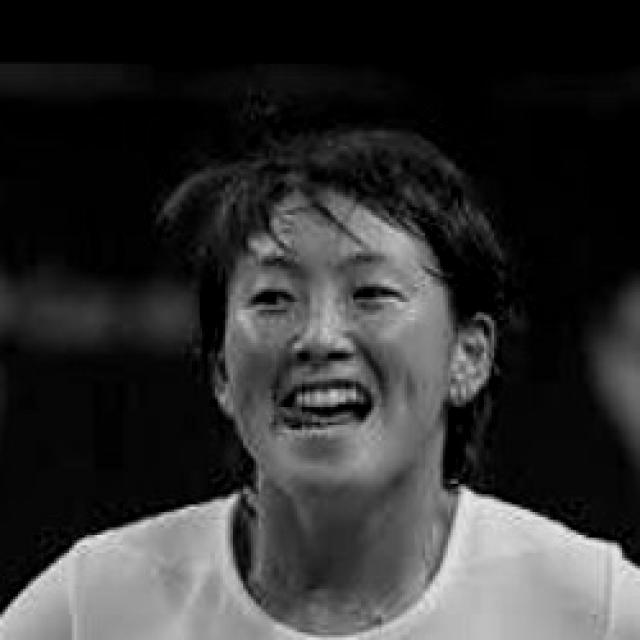real: (208, 134, 491, 511), (238, 268, 418, 328)
